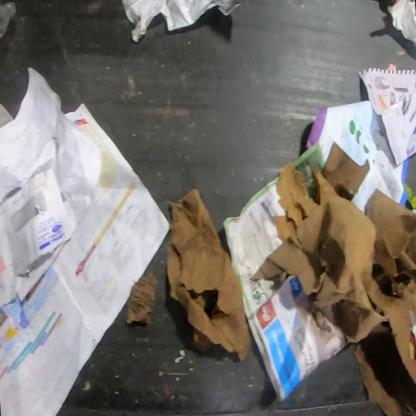cardboard: (251, 142, 416, 416), (166, 188, 250, 362), (128, 273, 158, 325)
rigid_plastic: (0, 2, 17, 38)
